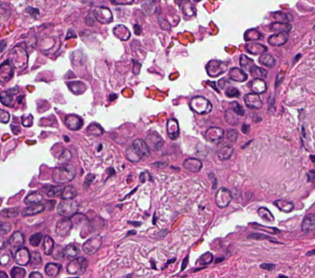nucleus: (52, 164, 75, 183), (189, 96, 211, 114), (82, 235, 101, 254), (206, 59, 226, 77), (131, 138, 149, 157), (57, 200, 77, 217), (145, 132, 163, 150), (93, 6, 112, 23), (215, 187, 231, 207), (205, 126, 223, 143), (64, 114, 82, 130), (247, 233, 279, 242), (166, 118, 179, 139), (113, 24, 130, 40), (56, 218, 72, 235), (177, 1, 195, 16), (248, 79, 266, 94), (244, 93, 262, 108), (251, 223, 278, 233), (228, 67, 247, 81), (183, 158, 202, 172), (22, 203, 44, 215), (273, 199, 293, 212), (245, 42, 266, 54), (66, 81, 85, 94), (239, 54, 254, 70), (217, 144, 233, 159), (257, 207, 273, 222), (24, 191, 42, 204), (269, 22, 290, 33), (268, 33, 287, 45), (258, 53, 274, 67), (60, 185, 76, 199), (244, 28, 261, 41), (249, 65, 266, 78), (301, 214, 314, 231), (272, 11, 292, 22), (42, 185, 62, 196), (225, 109, 238, 125), (87, 122, 103, 135), (126, 147, 140, 161), (58, 149, 71, 164), (43, 235, 53, 254), (141, 1, 155, 14), (231, 102, 244, 115), (29, 233, 42, 246), (225, 129, 237, 142), (25, 6, 39, 17), (225, 86, 239, 97), (208, 172, 217, 188), (158, 16, 169, 29), (85, 13, 95, 26), (84, 174, 94, 186), (65, 29, 76, 39), (132, 60, 140, 73), (218, 79, 228, 88), (111, 0, 133, 4), (133, 24, 141, 34), (308, 169, 313, 181), (242, 124, 248, 133), (109, 94, 116, 100), (310, 155, 313, 162), (213, 87, 218, 91), (208, 82, 214, 85), (64, 136, 68, 140)
